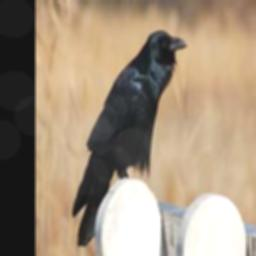Crow: (71, 29, 187, 248)
